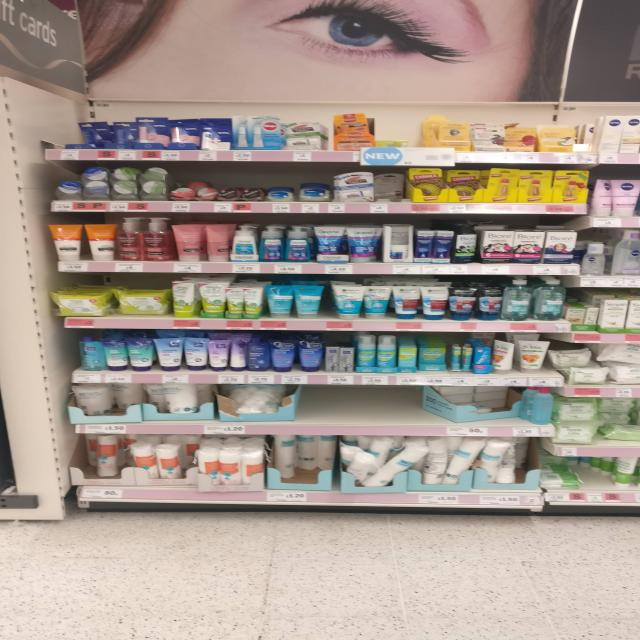empty: (293, 378, 431, 420), (370, 114, 438, 151)
